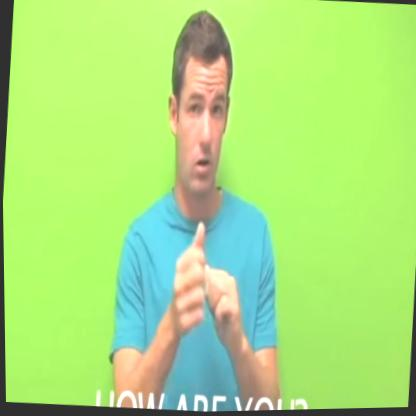HowAreYou: (148, 219, 260, 366)
